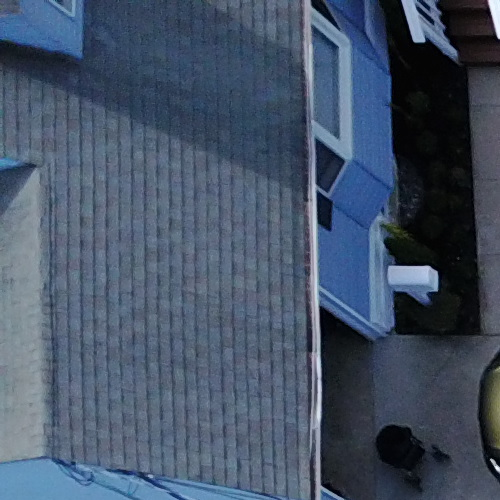trash bin: (364, 416, 433, 487)
